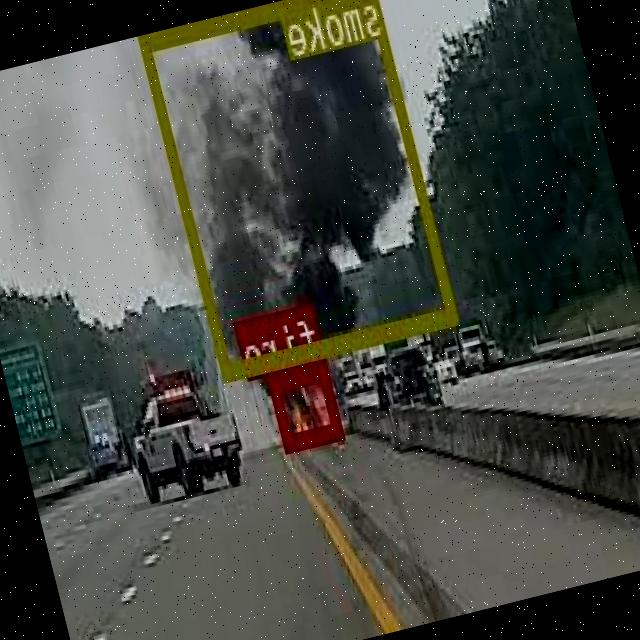fire: (269, 358, 345, 448)
smoke: (140, 0, 459, 374)
